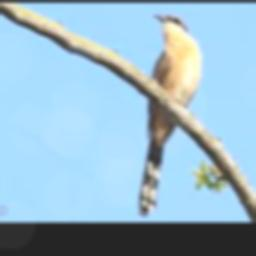Cuckoo: (139, 15, 202, 216)
